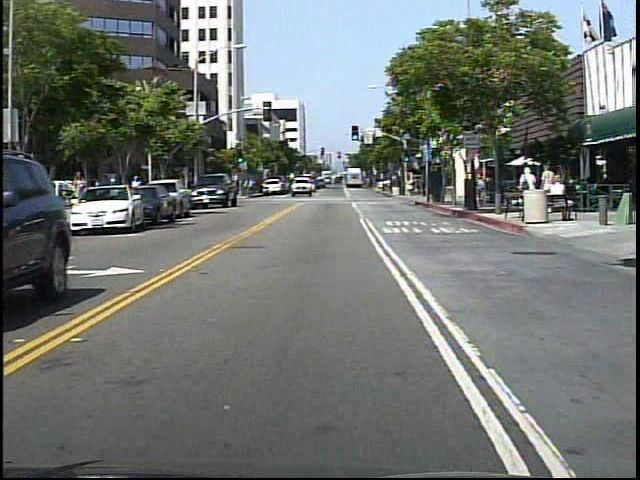person: (68, 167, 87, 218), (243, 176, 257, 201)
